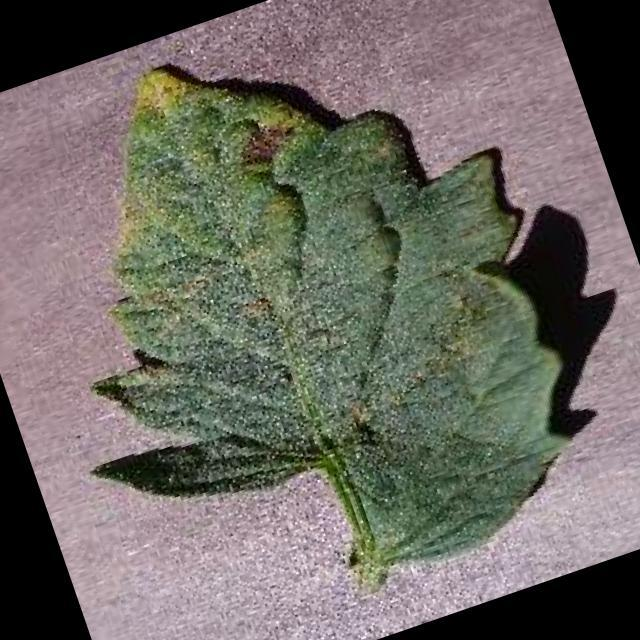Tomato Early blight leaf: (26, 0, 617, 636)
